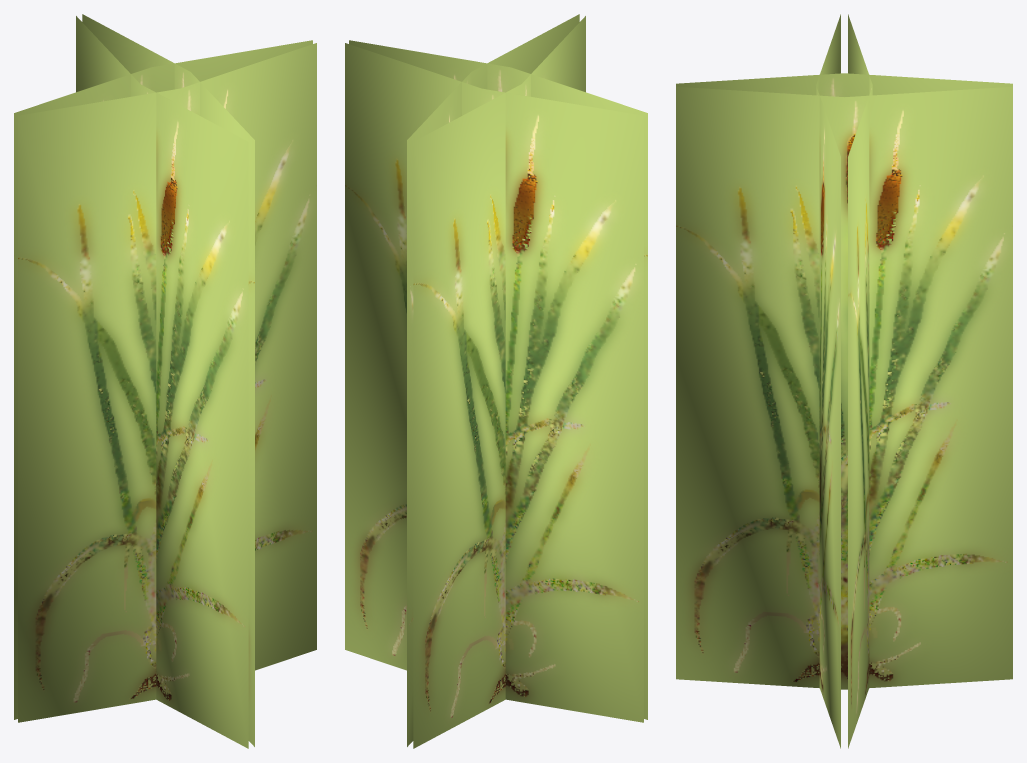
File: cattails.glb
3 renders of one model, left to right at view 1: azimuth 30°, elevation 25°; view 2: azimuth 150°, elevation 25°; view 3: azimuth 270°, elevation 25°, orthographic. The views are drawn at different scales.
Visible parts, largest first — view 1: cattails; view 2: cattails; view 3: cattails.
Boxes of the visible parts, bbox=[...] form: cattails: bbox=[14, 14, 316, 748]; cattails: bbox=[345, 14, 647, 748]; cattails: bbox=[676, 14, 1012, 748].
Bounding box in the file's own units: 1.1 × 2.13 × 1.1.
Materials: 1 (1 with a texture image).
